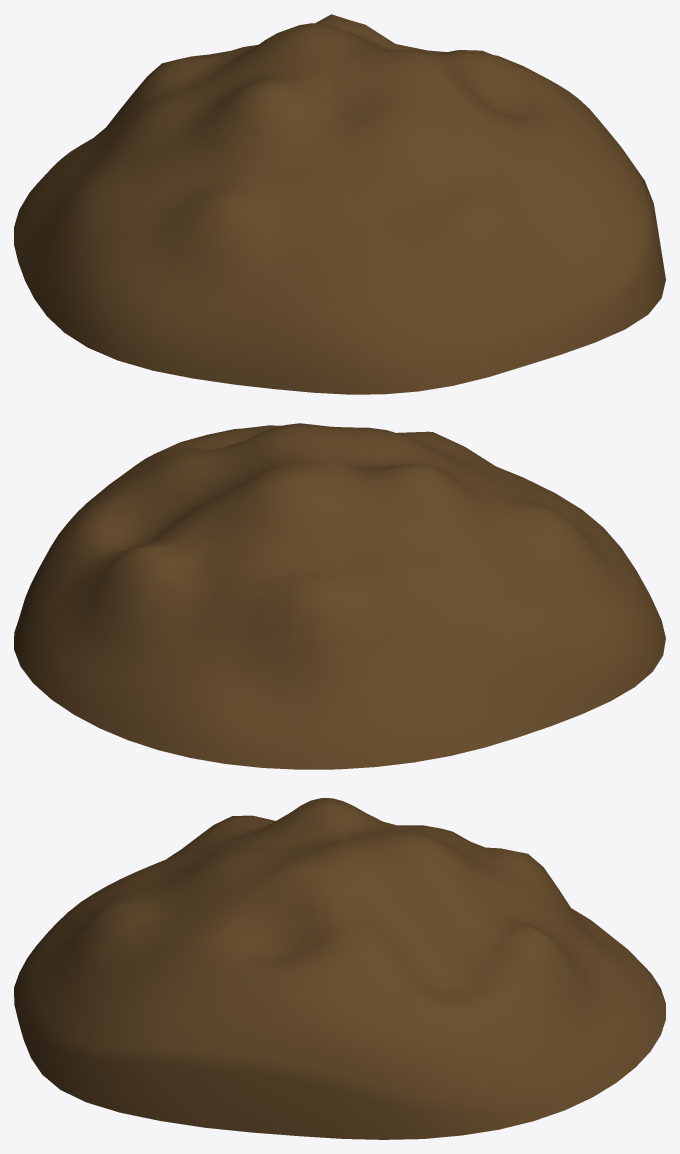
Rendered from buried_seed.fbx.
The picture shows the model from 3 angles, top to bottom: view 1: azimuth 30°, elevation 25°; view 2: azimuth 150°, elevation 25°; view 3: azimuth 270°, elevation 25°; orthographic projection. The views are drawn at different scales.
Parts seen in each view (by area): view 1: pSphere4; view 2: pSphere4; view 3: pSphere4.
Part boxes in pixels (<box>): pSphere4: <box>14,14,665,394</box>; pSphere4: <box>14,423,665,769</box>; pSphere4: <box>14,798,665,1139</box>.
Size of the model in its own units: 0.936 by 0.3001 by 0.9833.
